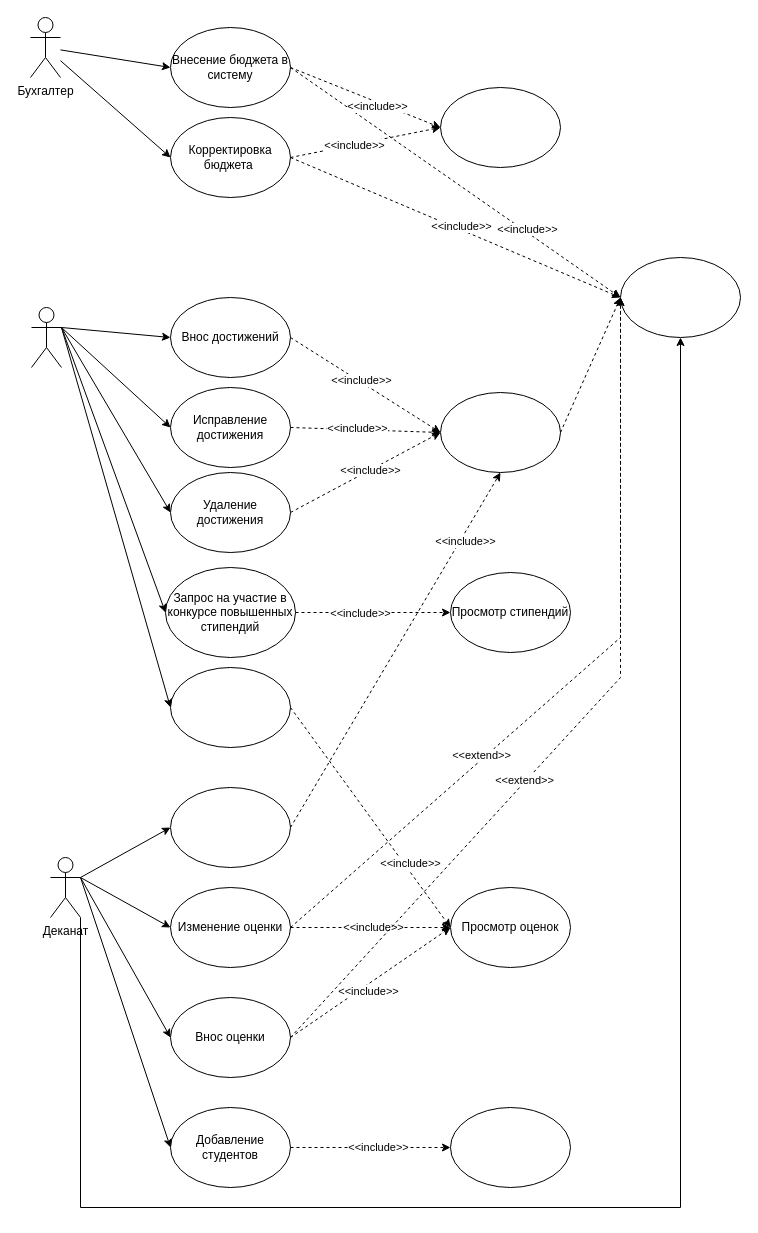
The diagram is 758 pixels wide and 1233 high, and some of its shapes have lost their labels. Each missing label, with the centre of its shape:
"Запрос на исправление оценки" belongs at point 230,707.
"Проверка на корректоность достижения" belongs at point 230,827.
"Просмотр бюджета" belongs at point 500,127.
"Просмотр достижений" belongs at point 500,432.
"Просмотр студентов" belongs at point 510,1147.
"Рассчет стипендии" belongs at point 680,297.
"Студент" belongs at point 46,337.
